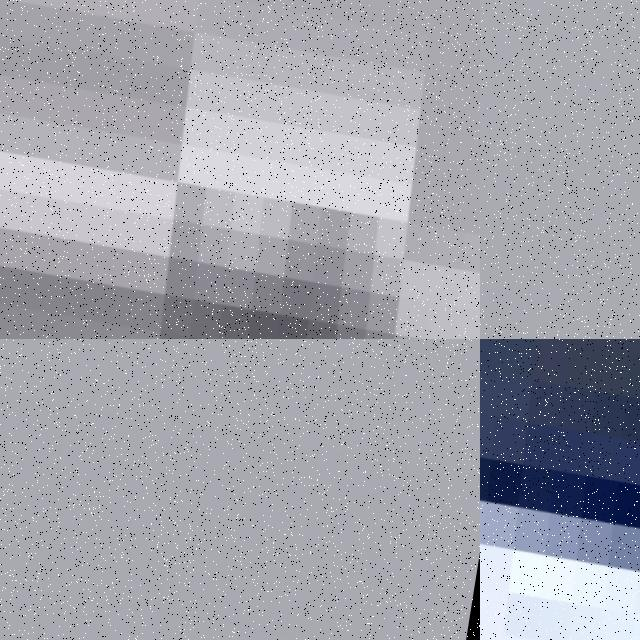drone: (0, 0, 480, 339), (0, 339, 480, 640), (480, 339, 640, 640)
